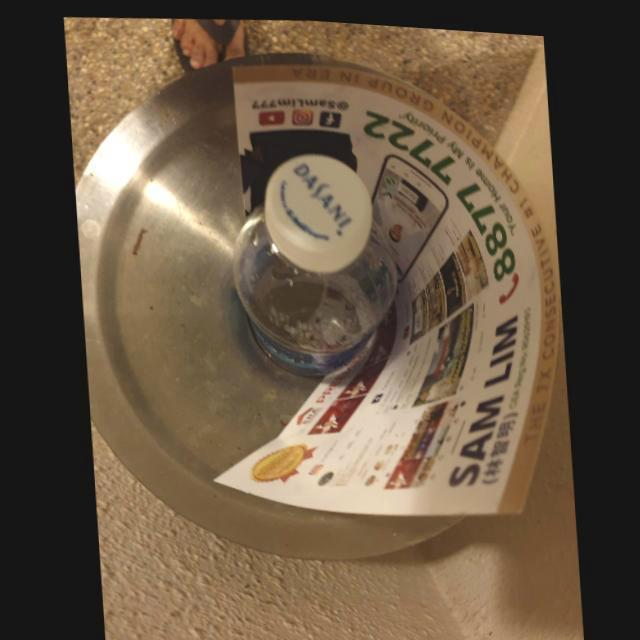paper: (213, 57, 560, 509)
plastic_bottle: (232, 148, 397, 372)
